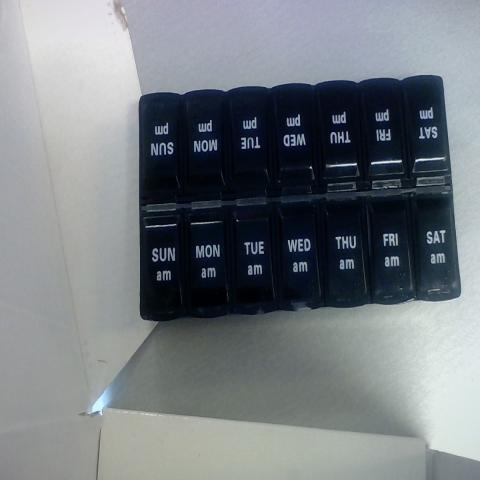FRI-am: (373, 202, 409, 297)
FRI-pm: (362, 81, 400, 189)
MON-am: (180, 210, 224, 313)
MON-pm: (182, 94, 224, 205)
SAT-am: (415, 200, 454, 297)
SAT-pm: (407, 76, 446, 186)
SUN-am: (143, 220, 177, 318)
SUN-pm: (138, 97, 176, 209)
THU-am: (327, 204, 367, 299)
THU-pm: (319, 80, 359, 188)
TUE-am: (231, 204, 271, 308)
TUE-pm: (225, 91, 268, 202)
WED-am: (276, 200, 318, 304)
WED-pm: (275, 86, 316, 199)
